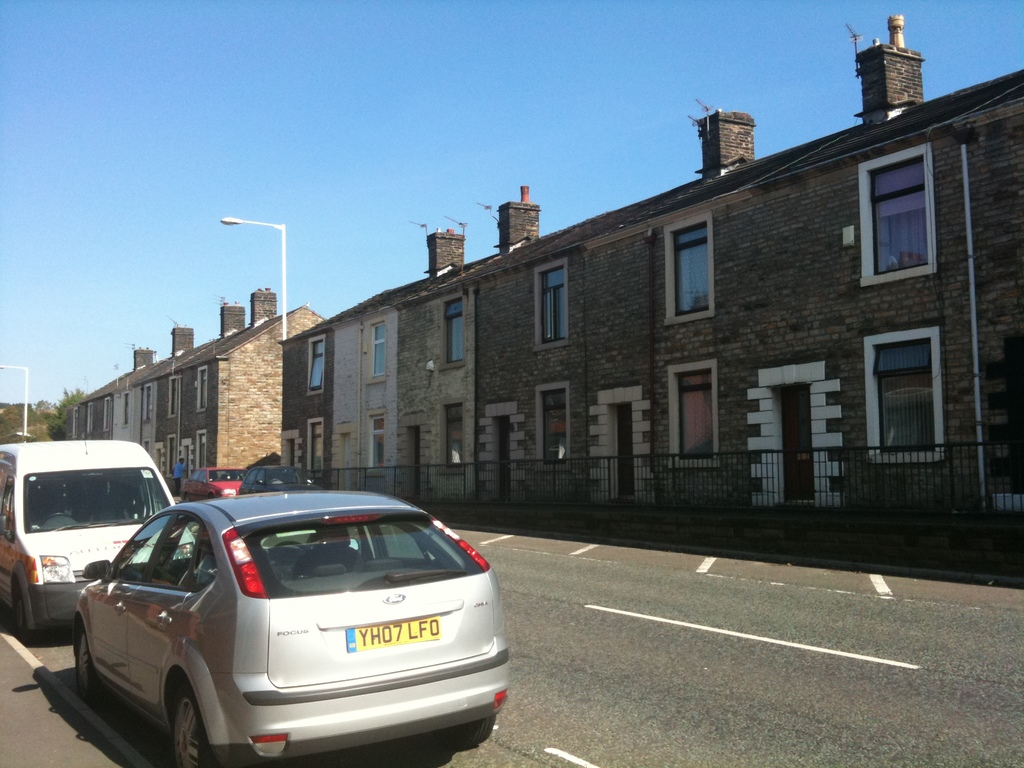Car: (55, 487, 529, 768), (179, 461, 247, 503), (233, 465, 328, 492)
